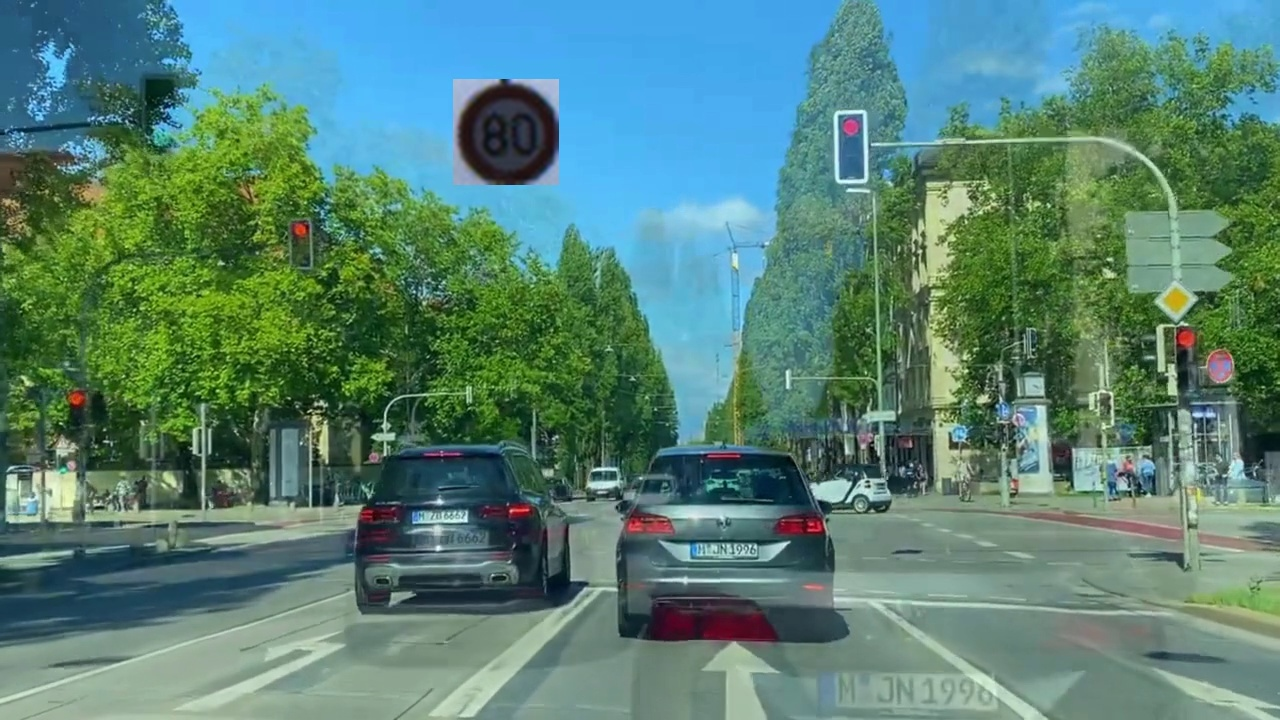Speed 80: (453, 79, 559, 185)
